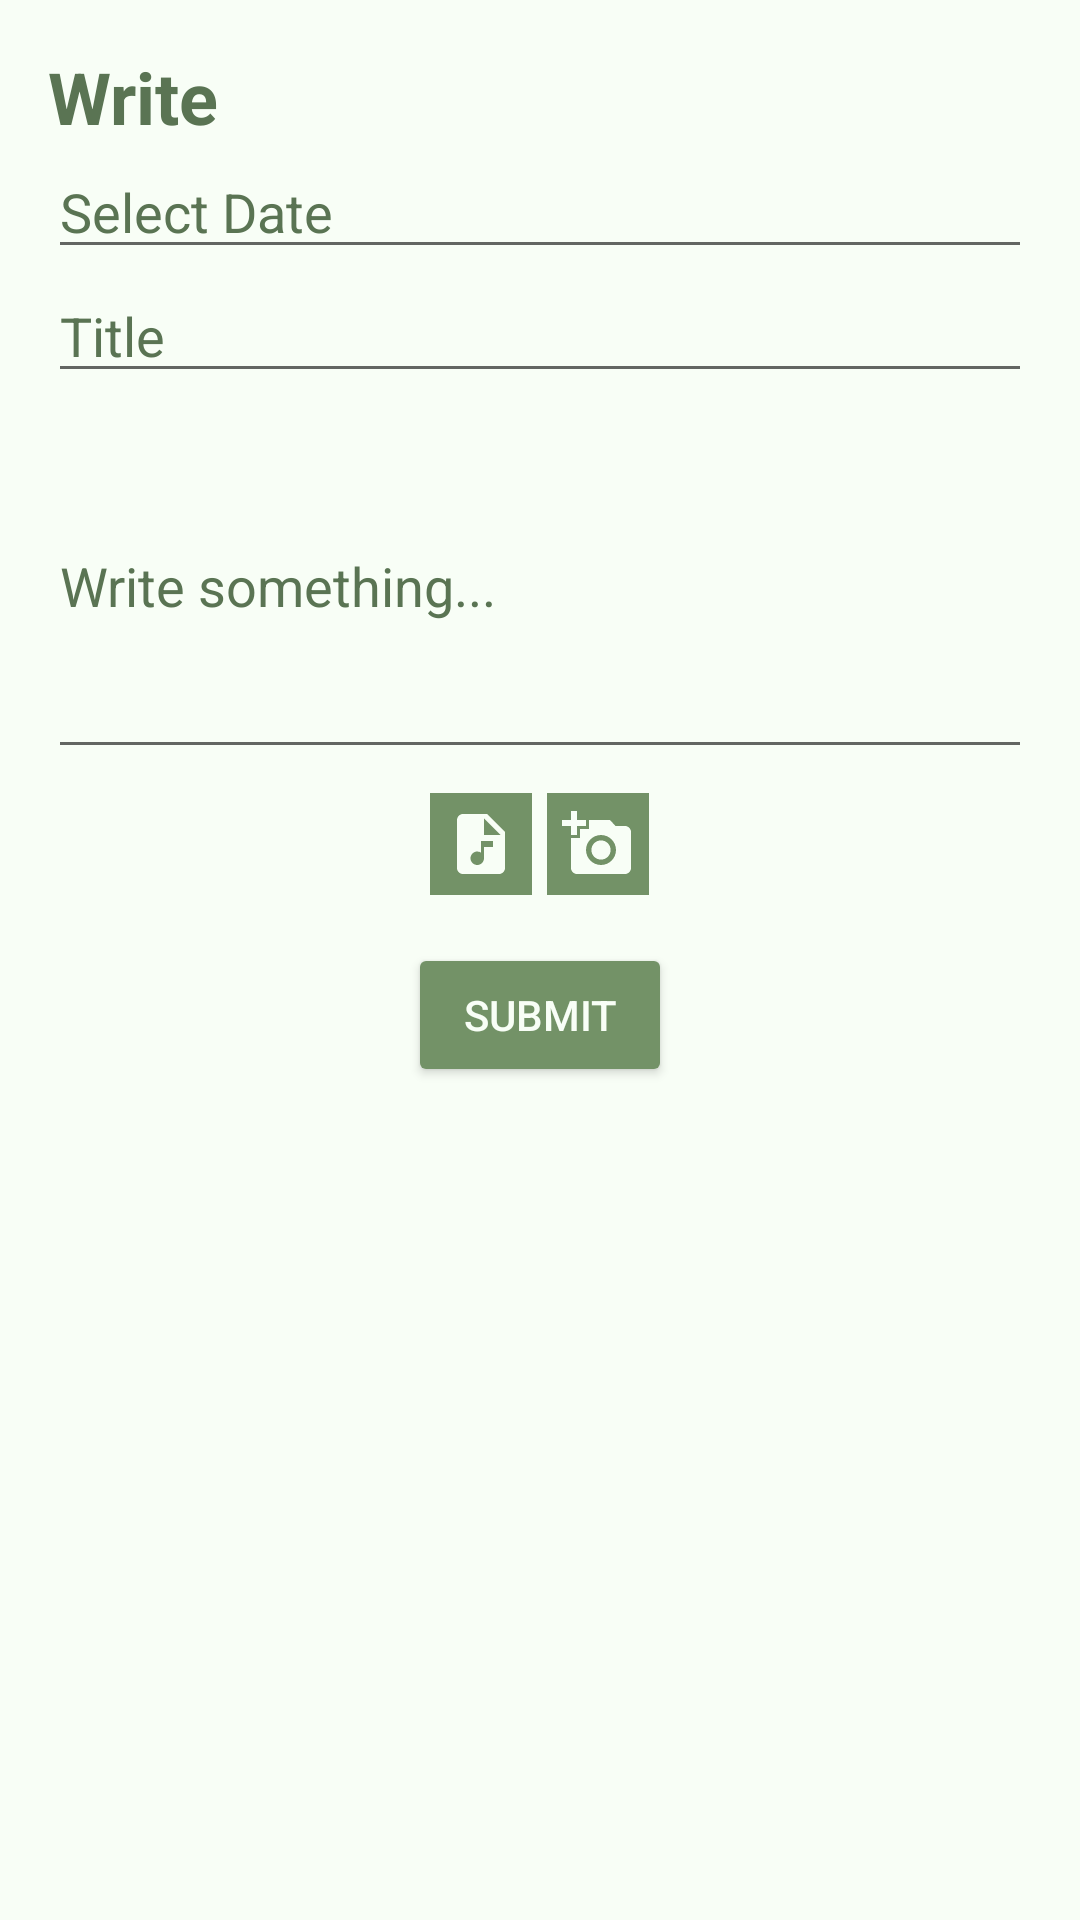

Locate icon controls on the screen. Image size 1080w x 1920h, boxes as [x1,y1,x2,y2].
Choose Image: [547,793,649,895]
